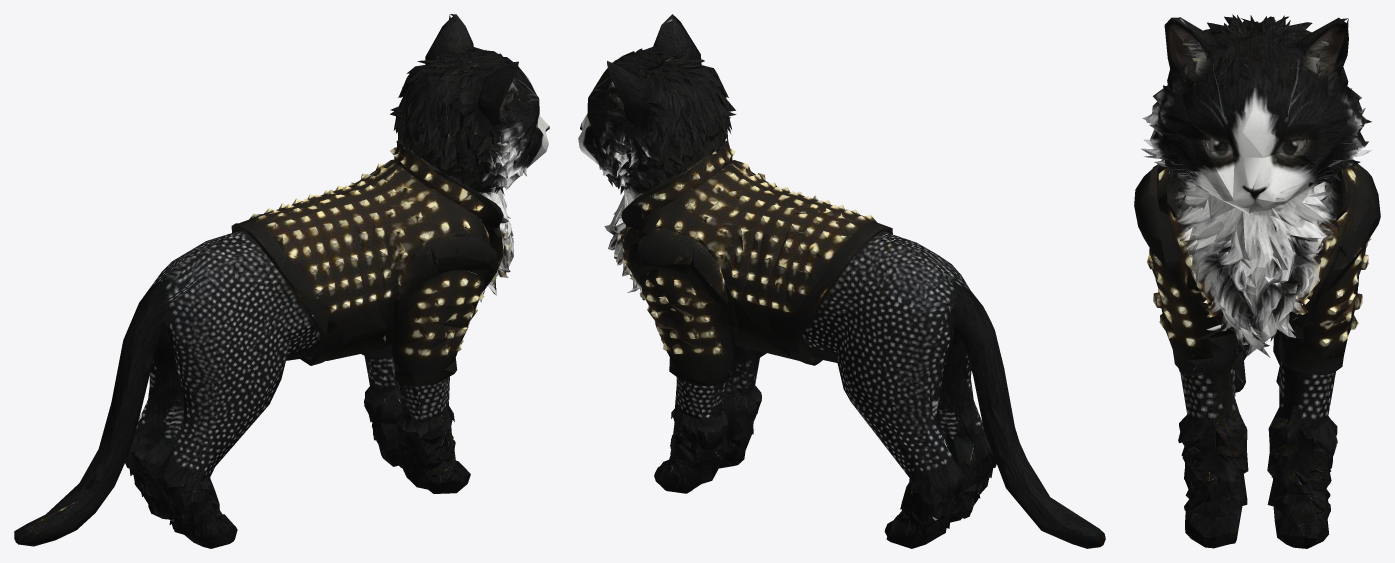
The model's file is MISTO.glb.
3 renders of one model, left to right at view 1: azimuth 30°, elevation 25°; view 2: azimuth 150°, elevation 25°; view 3: azimuth 270°, elevation 25°, orthographic. The views are drawn at different scales.
Visible parts, largest first — view 1: fit; view 2: fit; view 3: fit.
Boxes of the visible parts, x1,y1,x2,y2 form: fit: [14, 14, 549, 548]; fit: [578, 14, 1105, 548]; fit: [1134, 14, 1380, 548].
Size of the model in its own units: 1.3 by 1 by 0.4003.
Materials: 1 (1 with a texture image).
